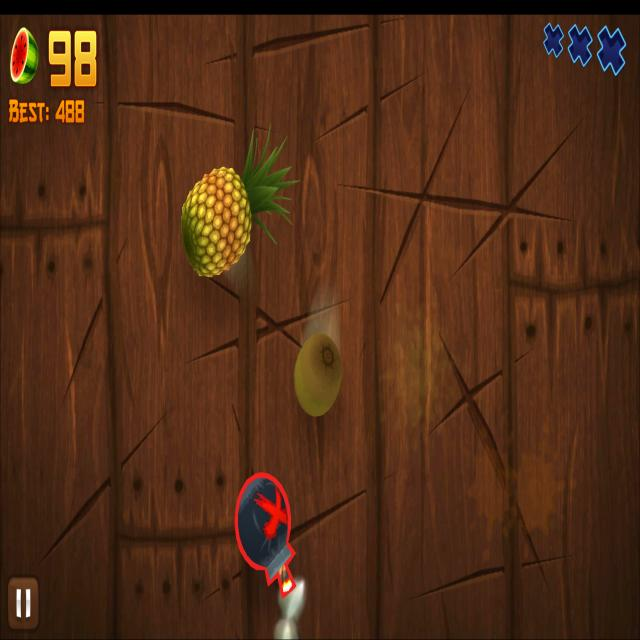bomb: (234, 470, 296, 599)
fruit: (180, 166, 253, 276), (294, 332, 342, 418)
